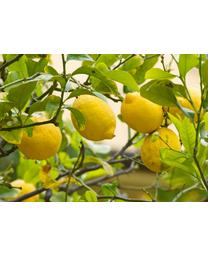lemon: (71, 94, 117, 140), (120, 87, 165, 134), (19, 117, 62, 161)
